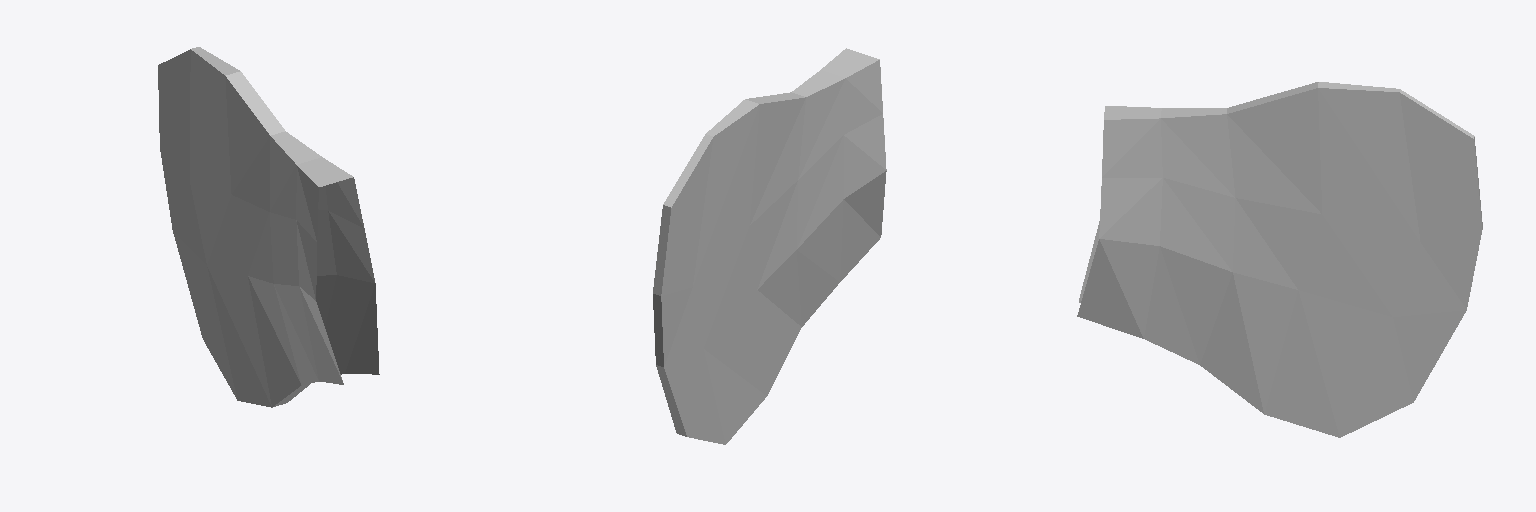
Rendered from colaFish.obj.
3 renders of one model, left to right at view 1: azimuth 30°, elevation 25°; view 2: azimuth 150°, elevation 25°; view 3: azimuth 270°, elevation 25°, orthographic.
Parts seen in each view (by area): view 1: polySurface2 TropicalFish12:TropicalFish12; view 2: polySurface2 TropicalFish12:TropicalFish12; view 3: polySurface2 TropicalFish12:TropicalFish12.
Part boxes in pixels (left/top/right/bottom): polySurface2 TropicalFish12:TropicalFish12: left=158, top=47, right=379, bottom=407; polySurface2 TropicalFish12:TropicalFish12: left=653, top=48, right=886, bottom=444; polySurface2 TropicalFish12:TropicalFish12: left=1077, top=82, right=1482, bottom=437.
Size of the model in its own units: 0.142 by 0.7899 by 0.8545.